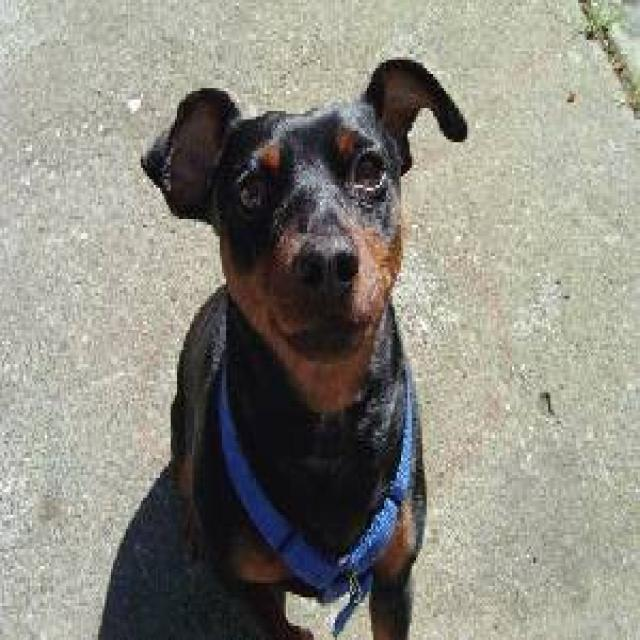dog-miniature_pinscher: (126, 46, 484, 634)
